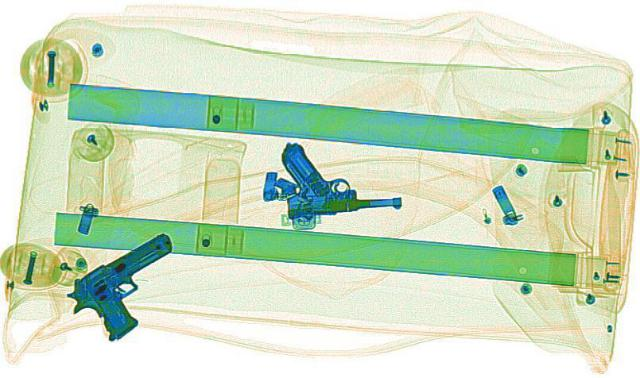Gun: (32, 229, 242, 340), (270, 135, 404, 217)
